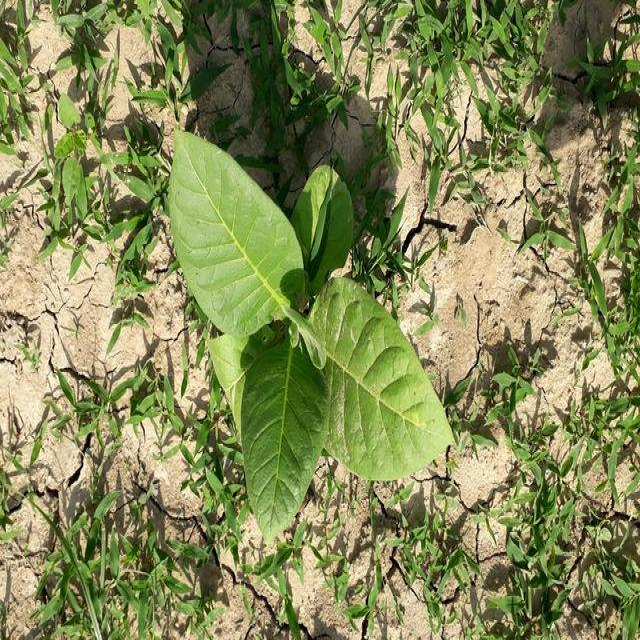crop: (170, 126, 440, 530)
